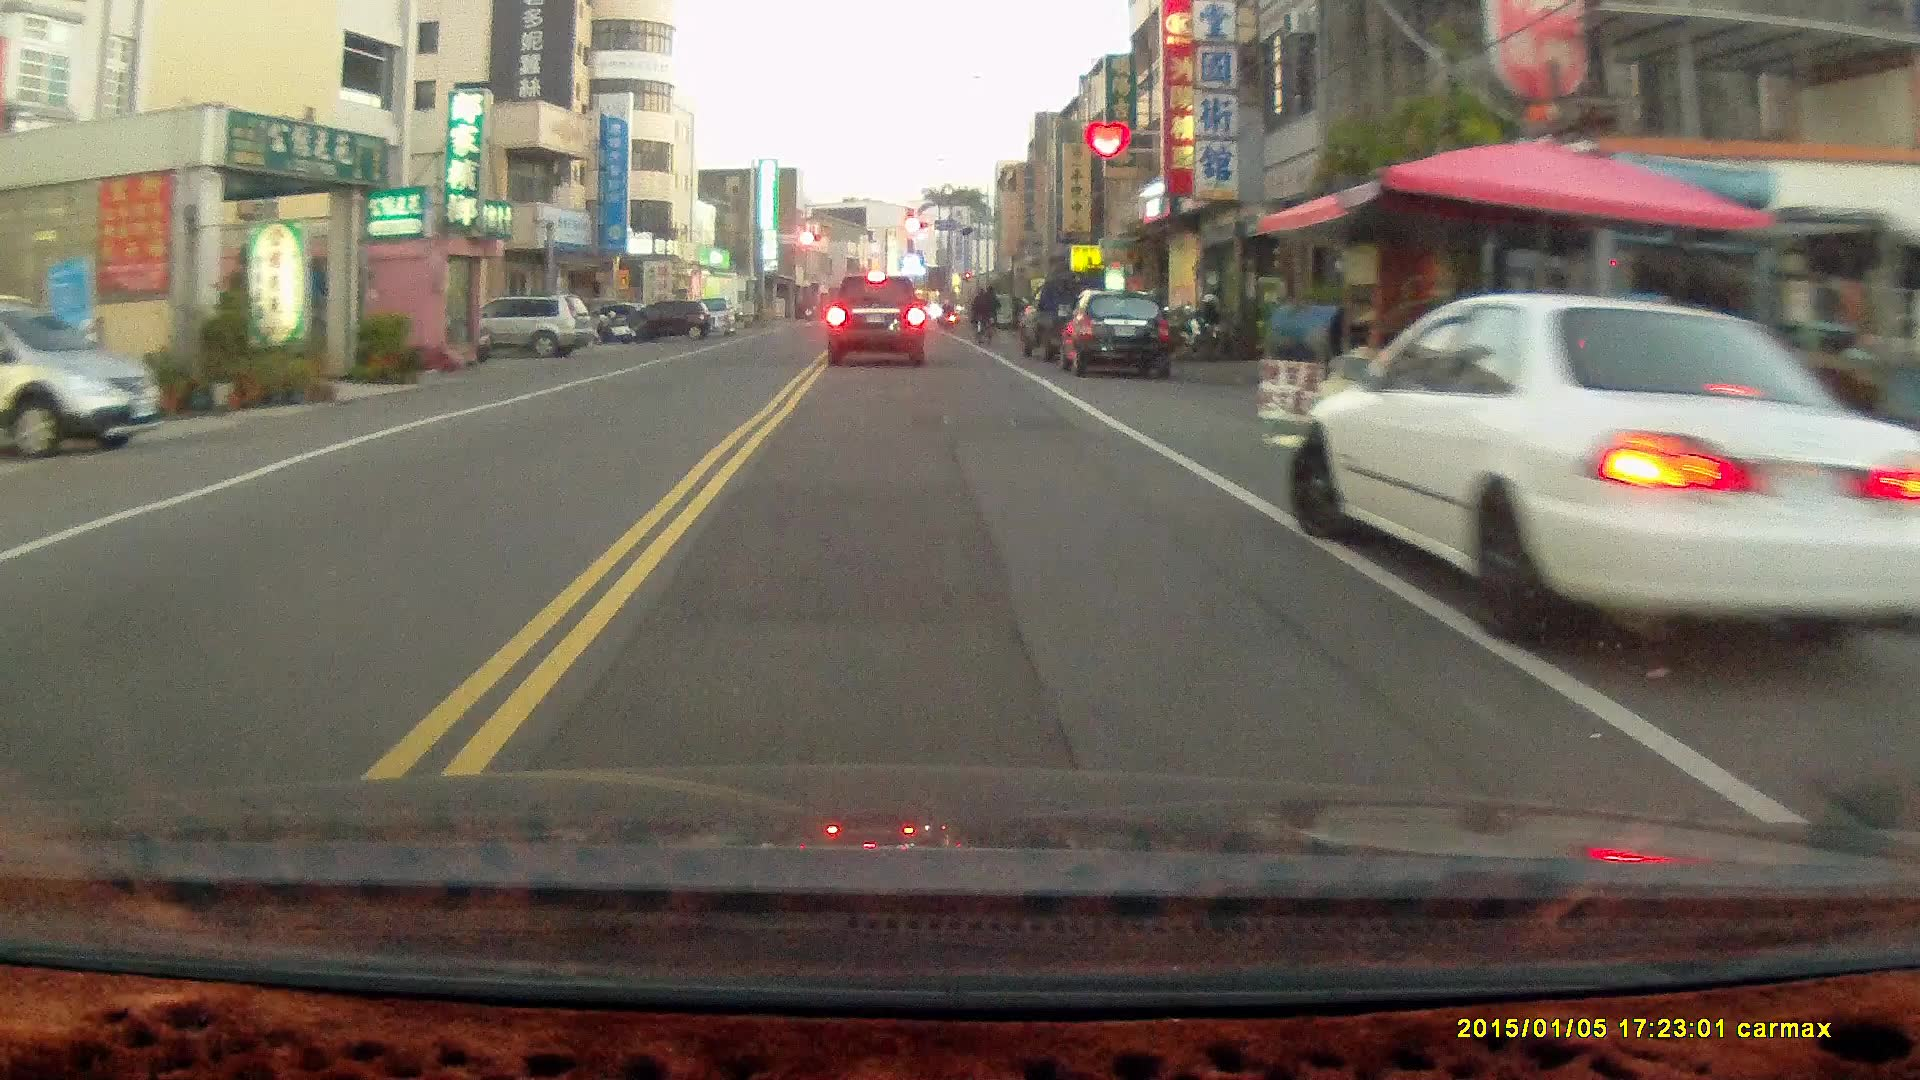rider: (972, 279, 1001, 346)
vehicle: (1289, 290, 1906, 648), (1, 296, 165, 453), (1059, 293, 1181, 385), (825, 275, 933, 370), (448, 291, 595, 354), (614, 297, 712, 343)
